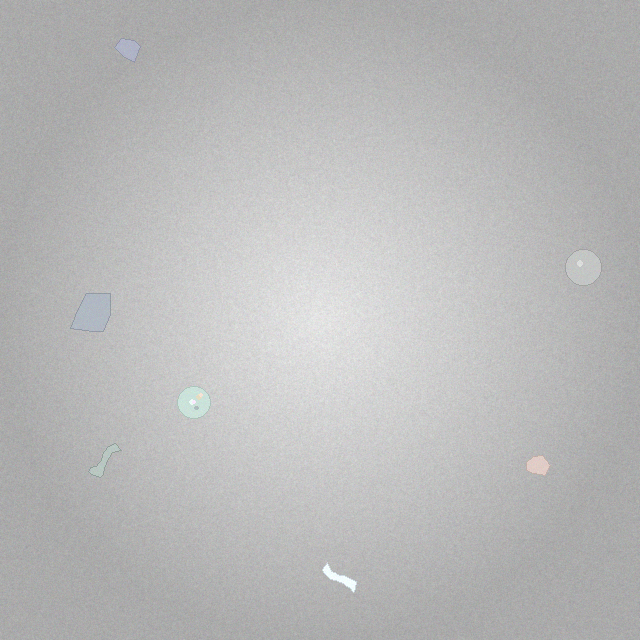film: (89, 444, 122, 477), (322, 563, 356, 592)
foam: (178, 386, 210, 419)
fragment: (70, 294, 110, 332), (115, 38, 141, 63), (527, 455, 550, 476)
pellet: (566, 249, 602, 285)
